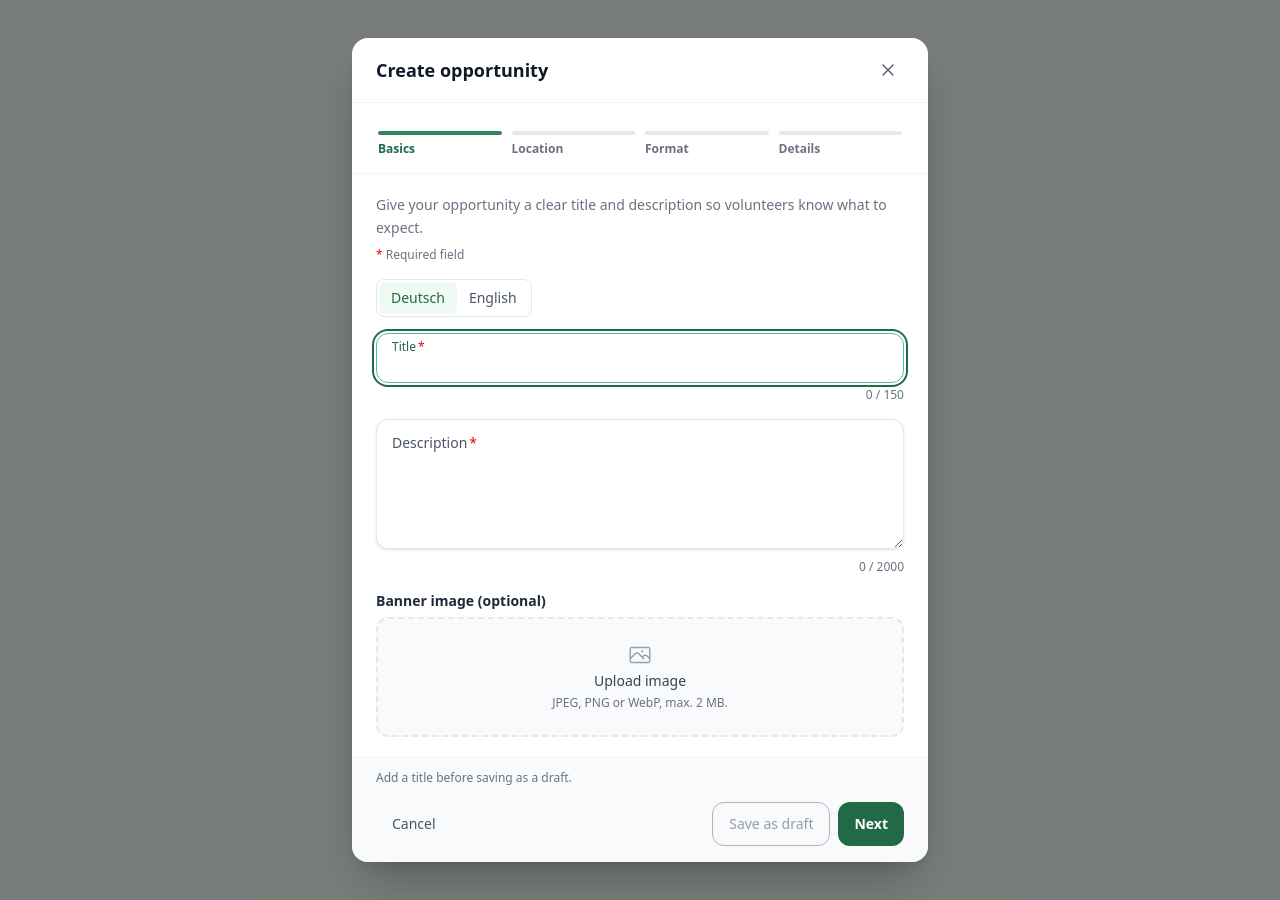
create-opportunity wizard: blocked stepper jumps (#1782) › retires the refusal once the named step is fixed, and lets the same click through
Click the button with test id "wizard-stepper-4" at (840, 146), box [776,131,904,161]
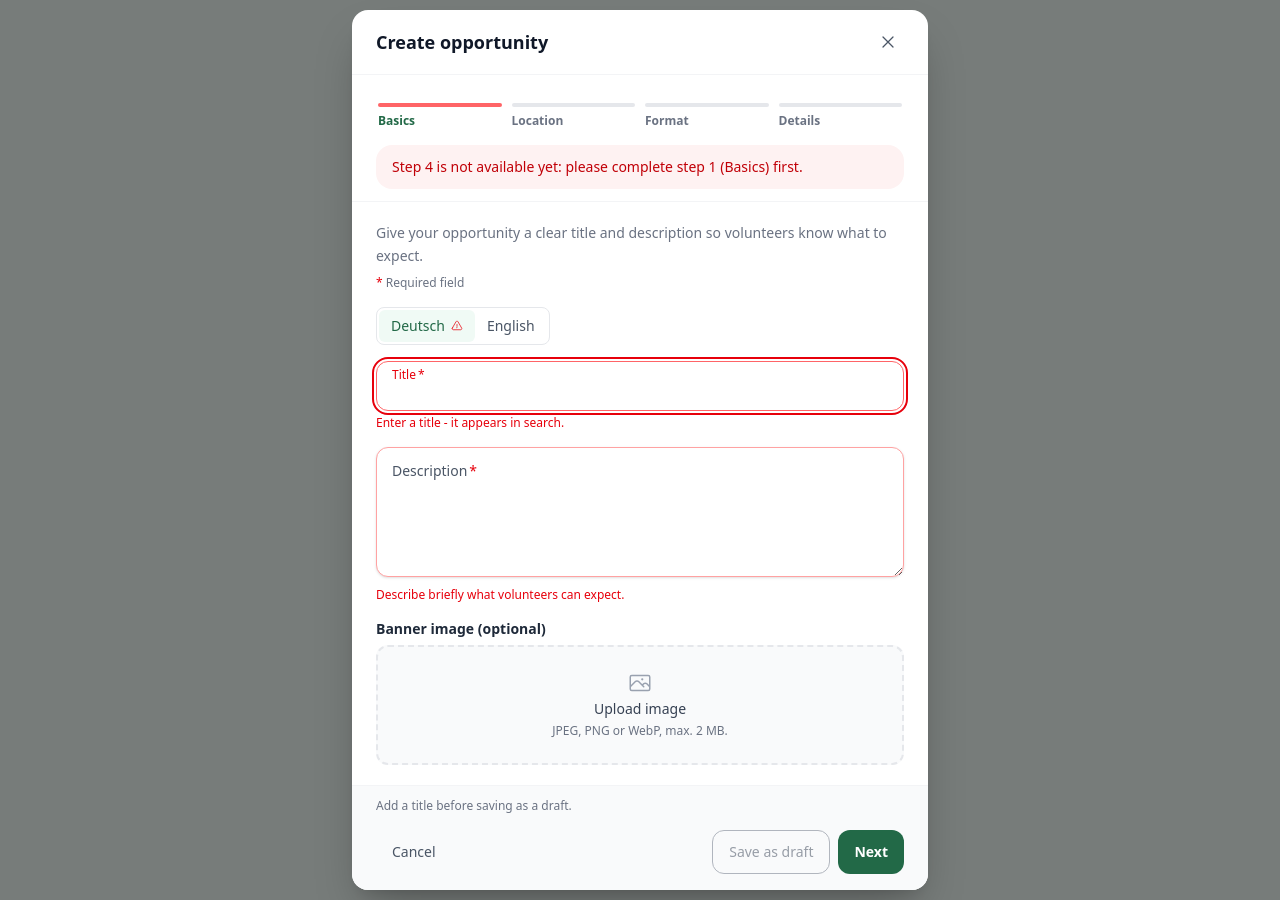
Expected: the message "Step 4 is not available yet: please complete step 1 (Basics) first." is shown, [376,145,904,189]
Type "Blocked step jump regression" into the field with id "opportunity-title" at (640, 386), box [376,361,904,411]
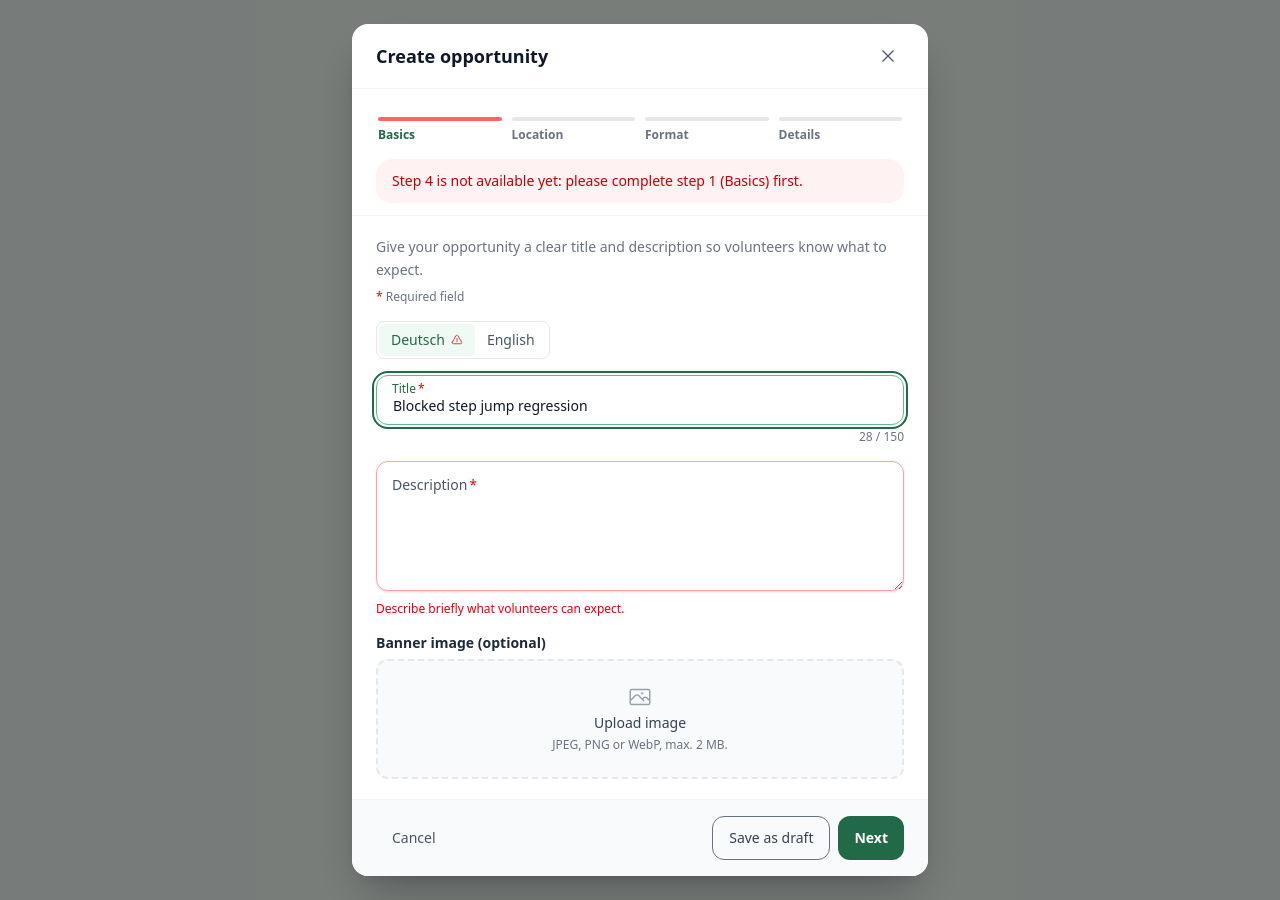
Type "Regression test for #1782." into the text box with id "opportunity-description" at (640, 526), box [376,461,904,591]
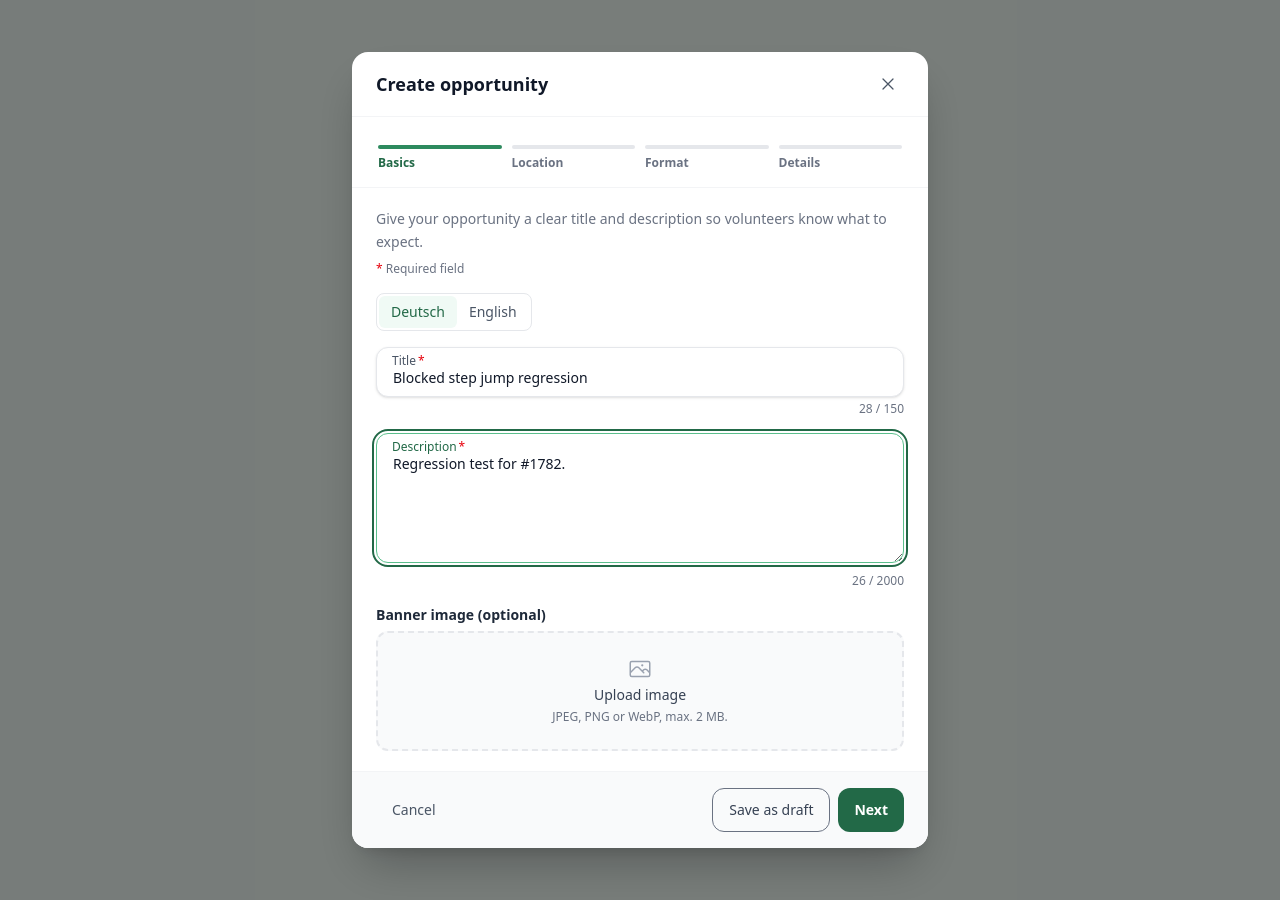
Press Tab
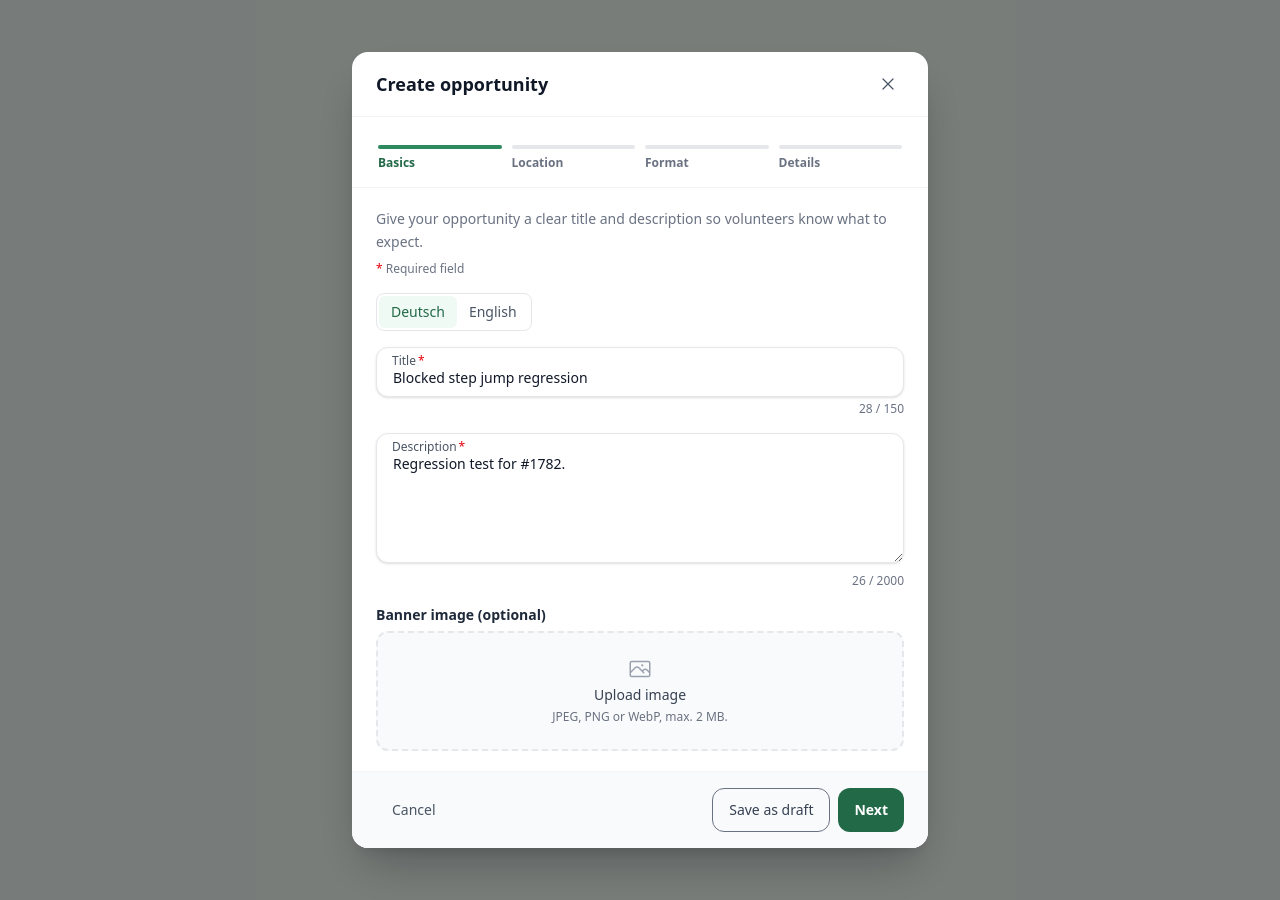
Expected: the button with test id "wizard-stepper-4" does not have attribute aria-describedby="create-opportunity-step-blocked"
Click the button with test id "wizard-stepper-4" at (840, 160), box [776,145,904,175]
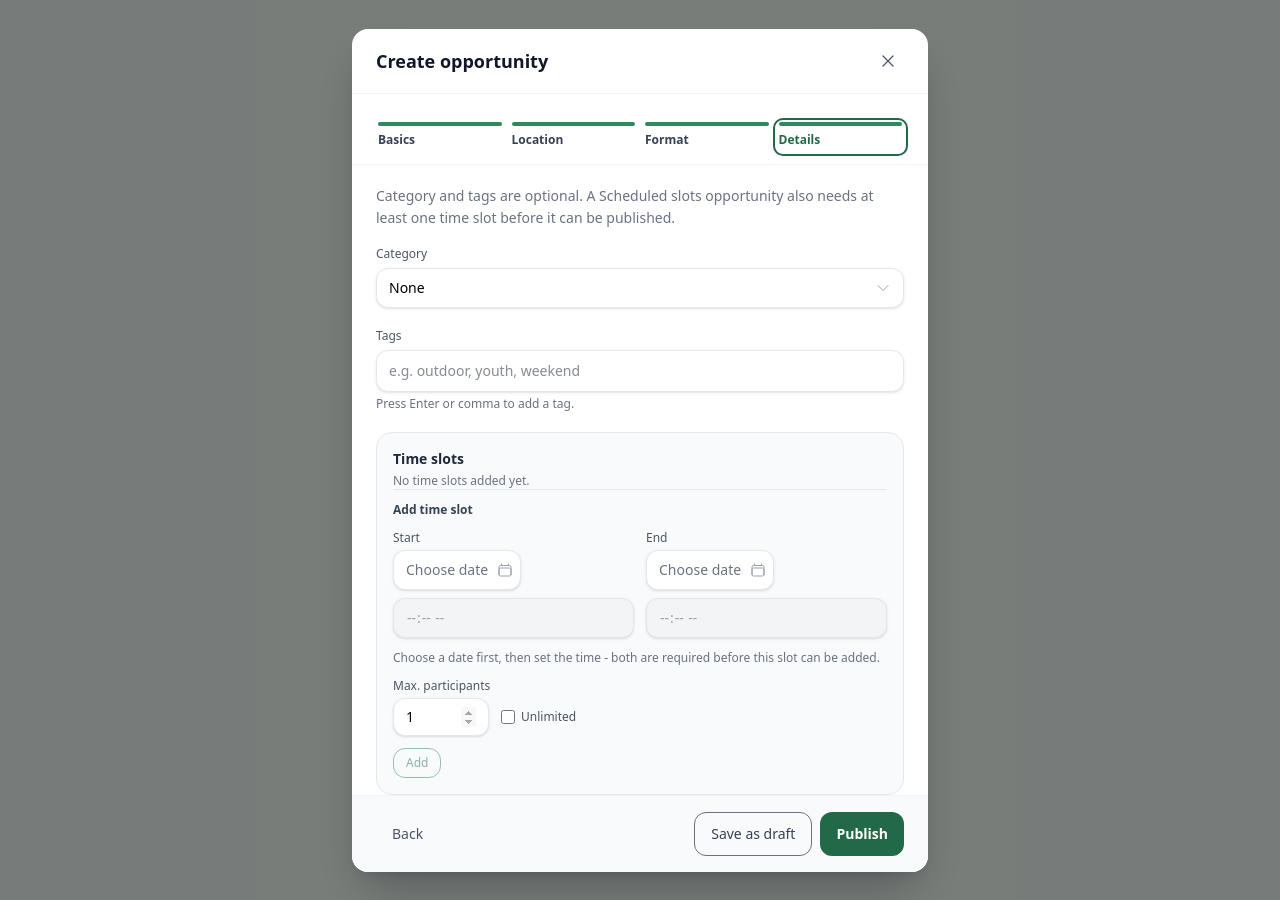
Expected: the element with test id "wizard-step-4" is shown, [376,246,904,794]
